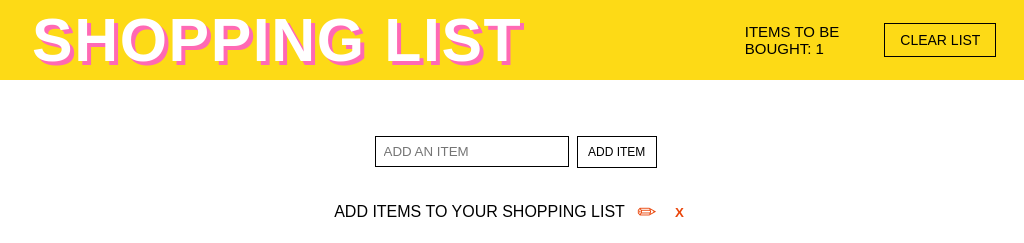
it: Shopping behavioral list tests › should edit a list item
Click the button "✏". click: [647, 212]
box: [631,198,663,227]
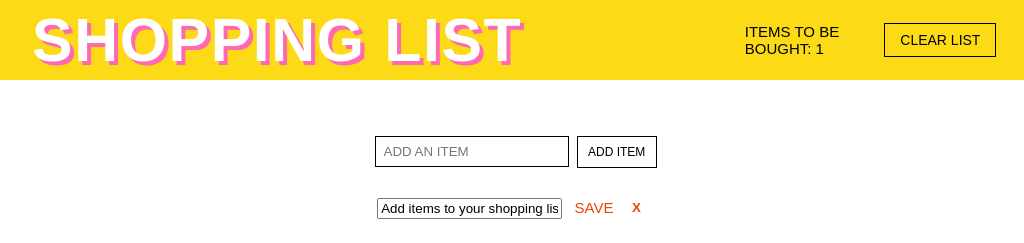
Type "ice cream" into the field named "edit". click: [470, 208]
box: [377,198,562,219]
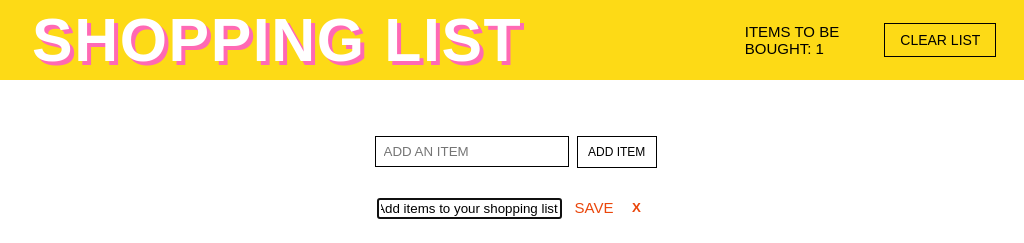
Click the button "Save". click: [594, 207]
box: [569,198,620,217]
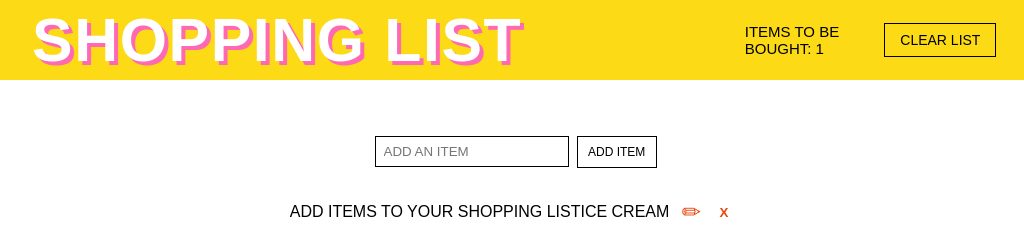
Expected: the text "ice cream" is shown, [290,203,669,220]
